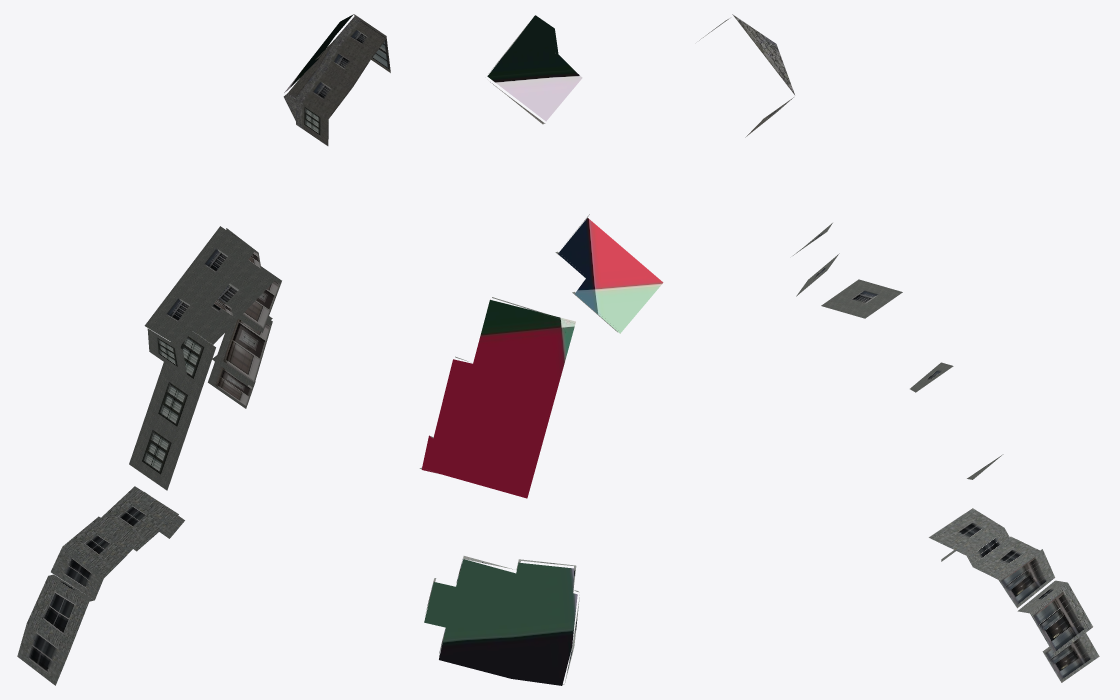
The model's file is tile_LOD4_r8_c1.glb.
3 views of the same model, side by side, from view 1: azimuth 30°, elevation 25°; view 2: azimuth 150°, elevation 25°; view 3: azimuth 270°, elevation 25° (orthographic). The views are drawn at different scales.
Size of the model in its own units: 21.5 by 63 by 32.5.
Materials: 13 (13 with a texture image).
